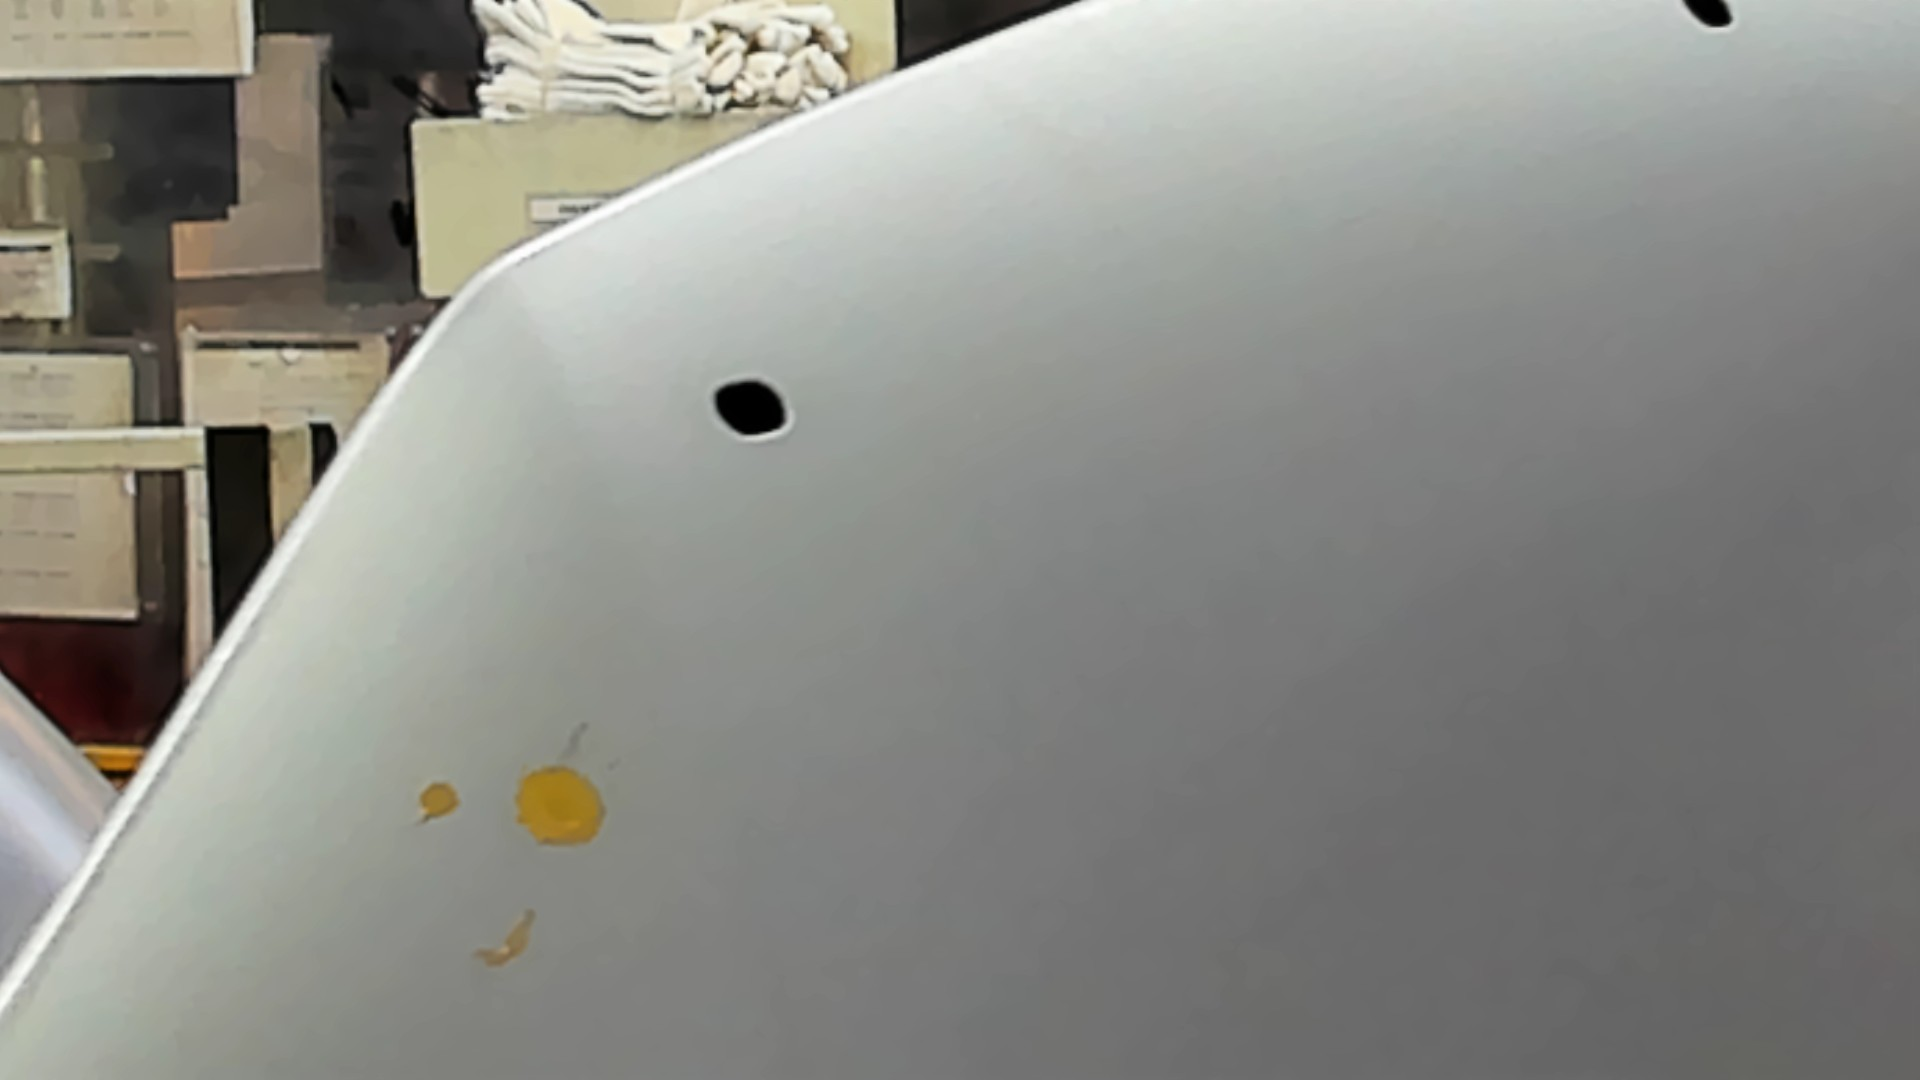amorfo: (707, 372, 796, 444), (1683, 1, 1737, 29)
